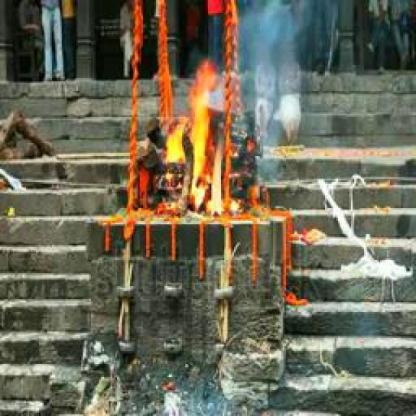fire: (165, 75, 228, 221)
